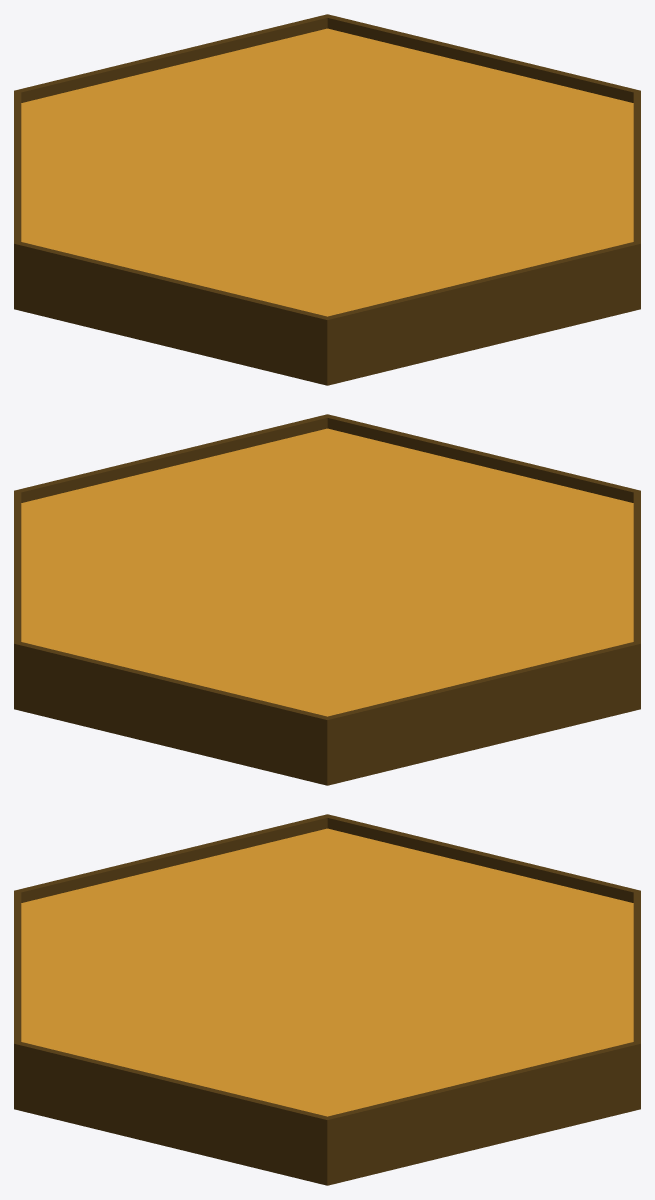
Rendered from Bee_Tile.fbx.
3 views of the same model, one above another, from view 1: azimuth 30°, elevation 25°; view 2: azimuth 150°, elevation 25°; view 3: azimuth 270°, elevation 25° (orthographic).
Visible parts, largest first — view 1: pCylinder1; view 2: pCylinder1; view 3: pCylinder1.
Part boxes in pixels (left/top/right/bottom): pCylinder1: left=14, top=14, right=640, bottom=385; pCylinder1: left=14, top=414, right=640, bottom=785; pCylinder1: left=14, top=814, right=640, bottom=1185.
Size of the model in its own units: 116 by 11.62 by 101.
